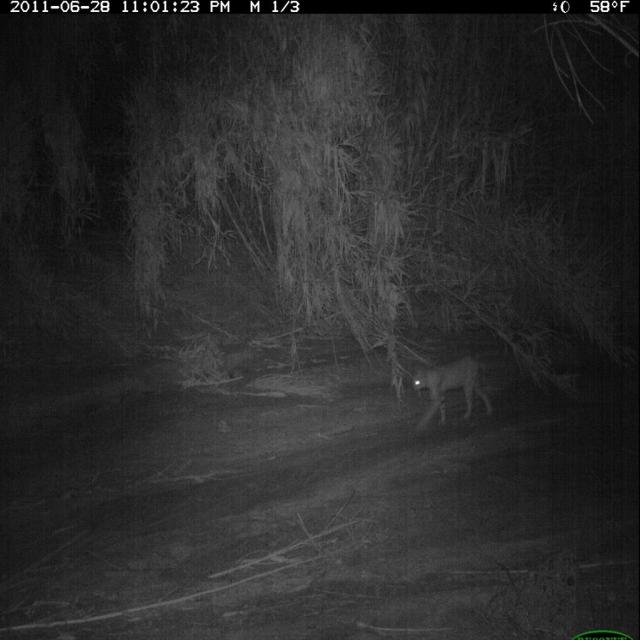bobcat: (409, 351, 498, 439)
